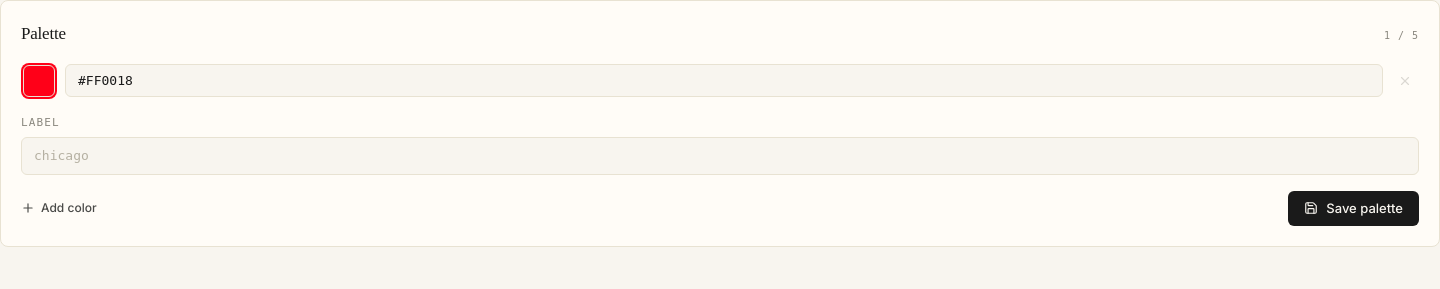
PalettePanel › rejects_invalid_hex_shows_field_error
This screenshot has width=1440, height=289.
Type "#GGGGGG" into the field named "Target hex 1". click: (724, 81)
box: top-left (65, 64), bottom-right (1383, 97)
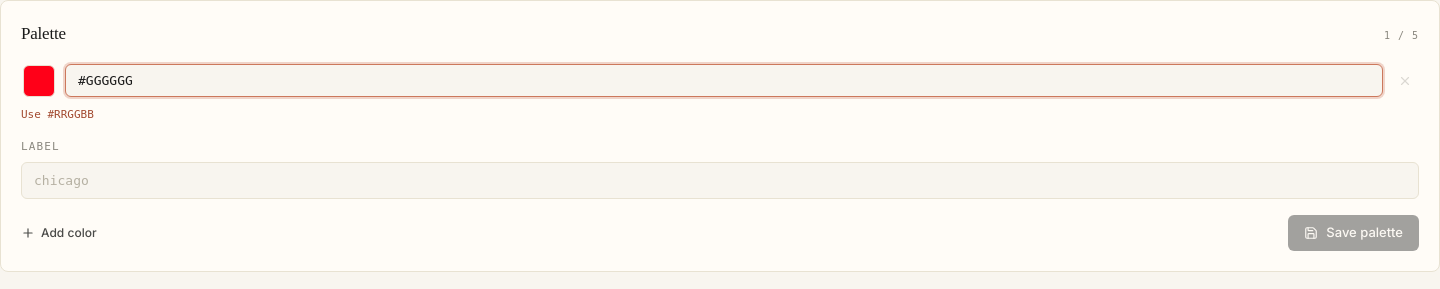
Result: the text "Use #RRGGBB" is shown at top-left (21, 108), bottom-right (94, 120)
